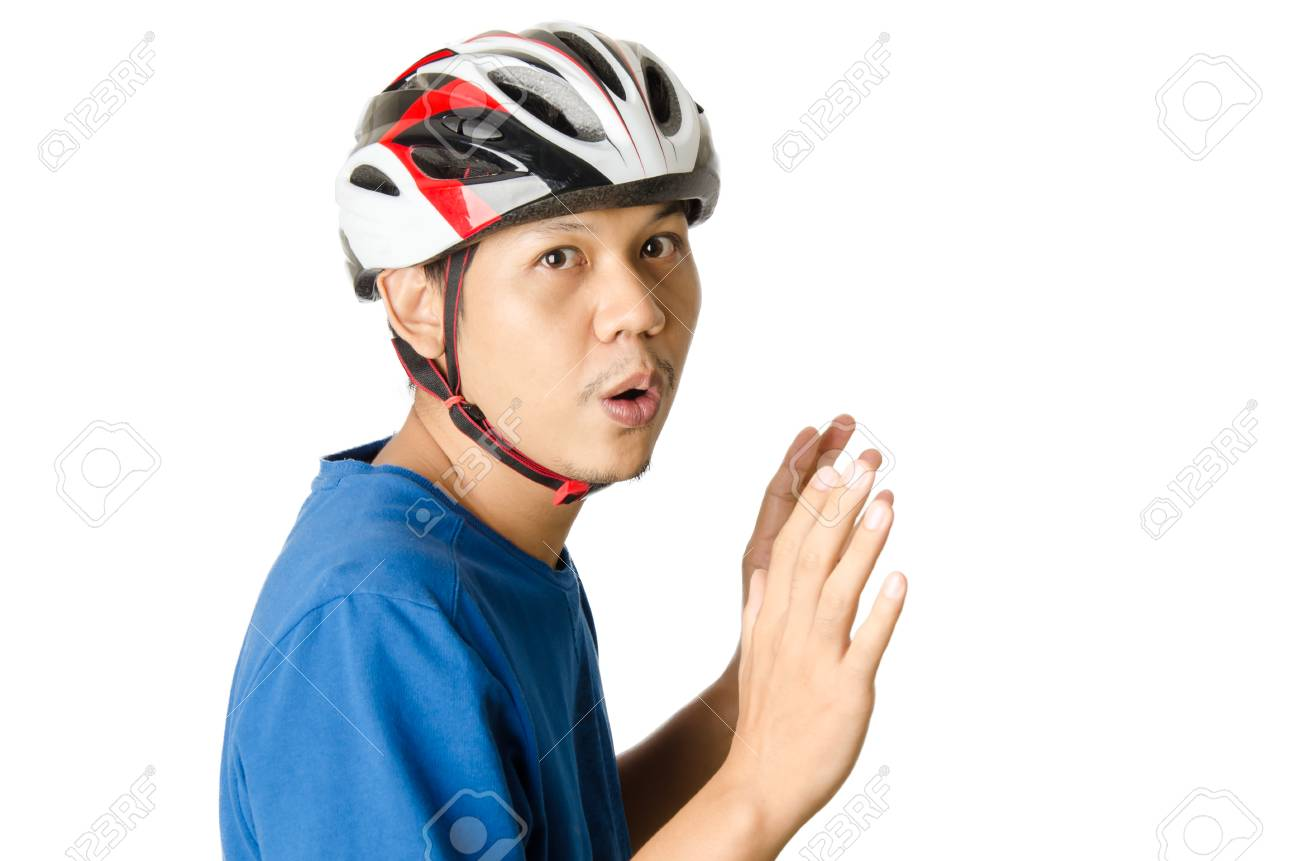helmet: (332, 23, 720, 504)
